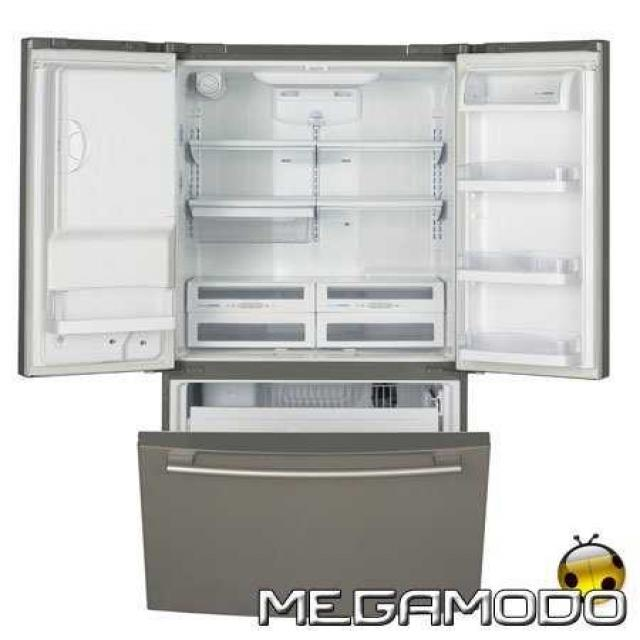refrigerator: (138, 44, 487, 623)
